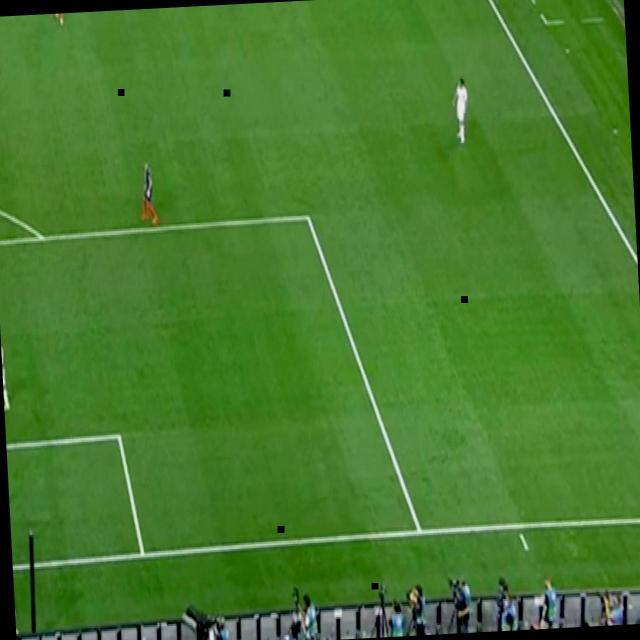player-white: (448, 74, 472, 150), (137, 154, 161, 230), (0, 332, 14, 420), (51, 13, 70, 33)
